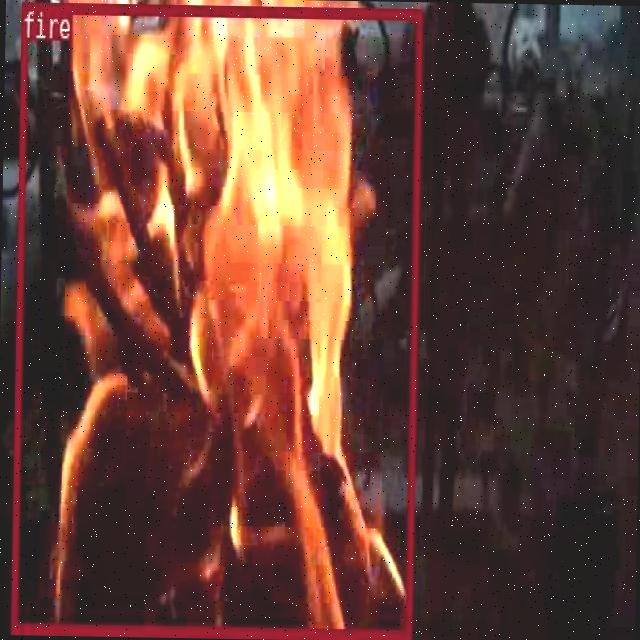fire: (9, 0, 420, 637)
